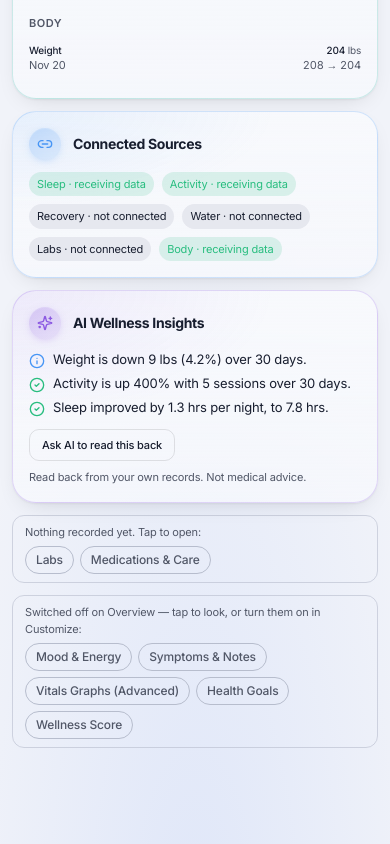
it: nothing hidden reads as missing › names the sections that are switched off, and opens one in place
(page scrolled)
Click the button with test id "wellness-hidden-mood" at (79, 657), box [25,643,132,671]
(page scrolled)
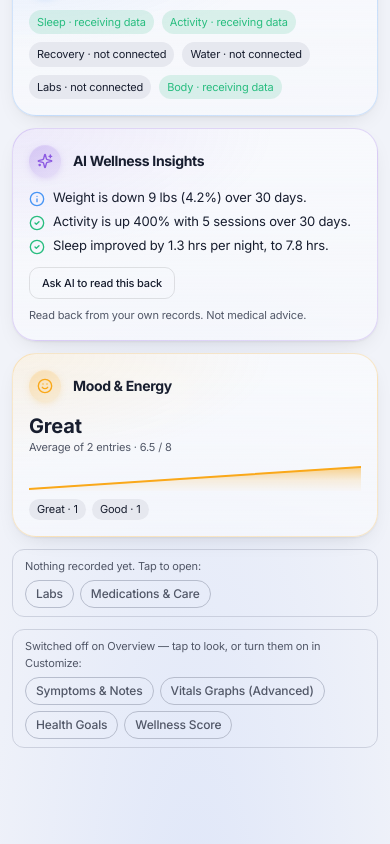
Expected: the text with test id "wellness-mood-average" reads "Great", [29,414,82,438]
Click the button with test id "wellness-hidden-symptoms" at (89, 691), box [25,677,154,705]
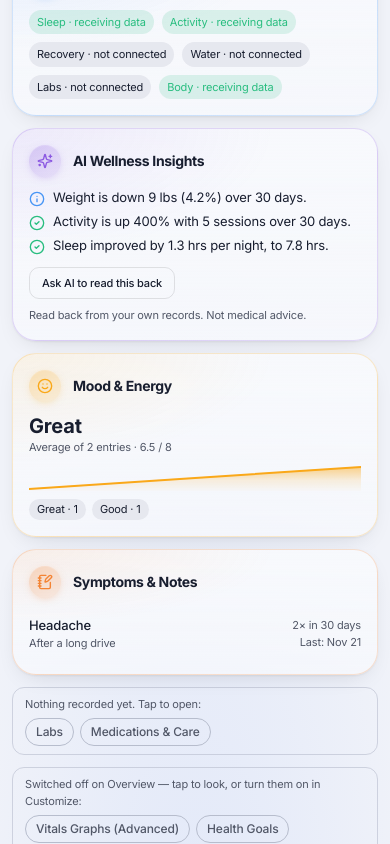
Expected: the link with test id "wellness-symptom-t-head" shows "Headache", [25,610,365,658]
